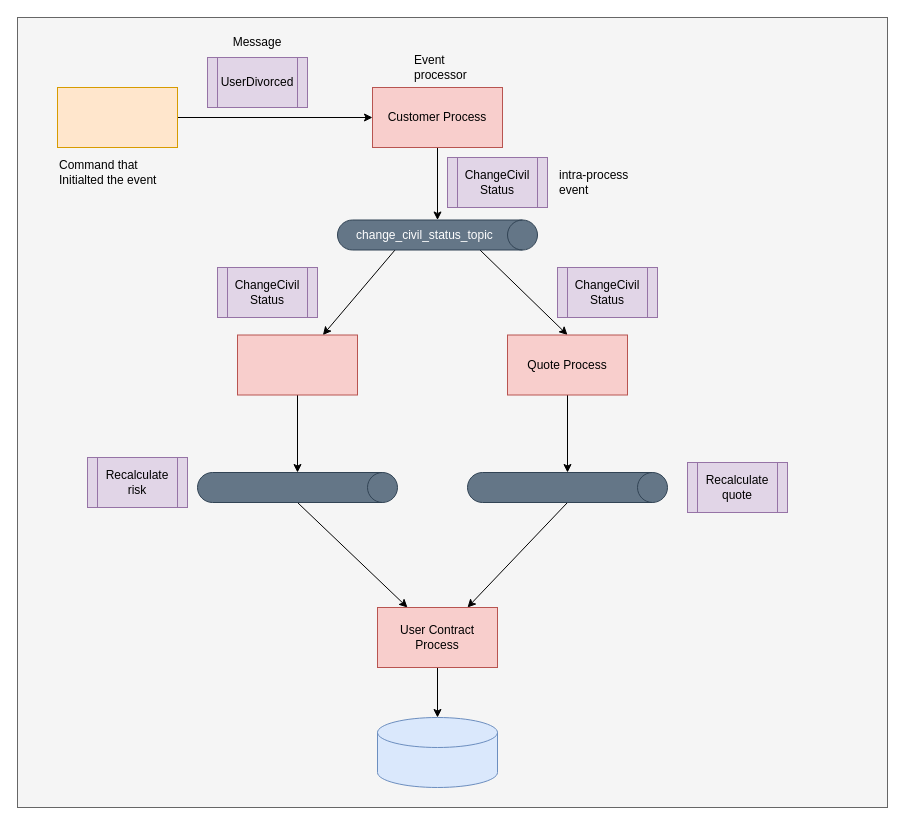
This 905x825 diagram has some shape labels left out. The box of each missing label's shape, as (x1, y1, x2, y2) in pixels:
Change CivilStatus: (56, 86, 178, 148)
recalculate_quote_topic: (466, 472, 668, 502)
recalculate_risk_topic: (196, 472, 398, 502)
Risk Analysis Process: (236, 334, 358, 395)
